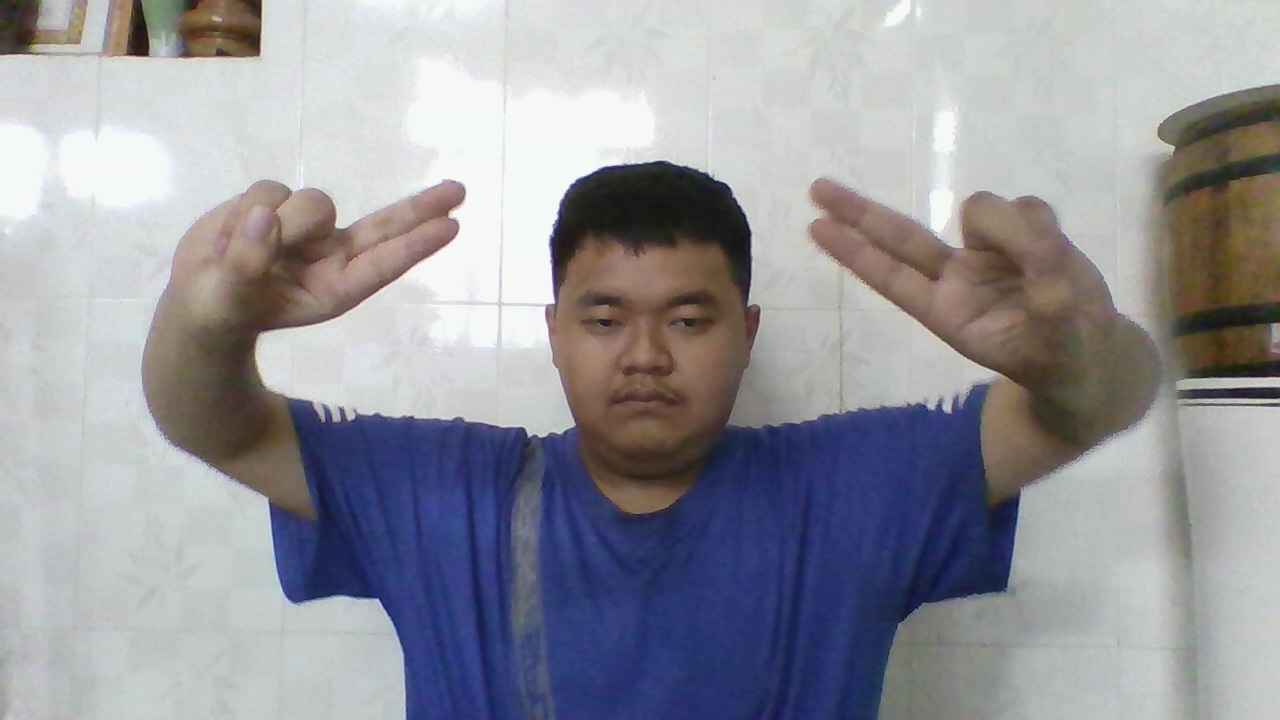U: (803, 170, 1107, 376), (178, 174, 470, 325)
